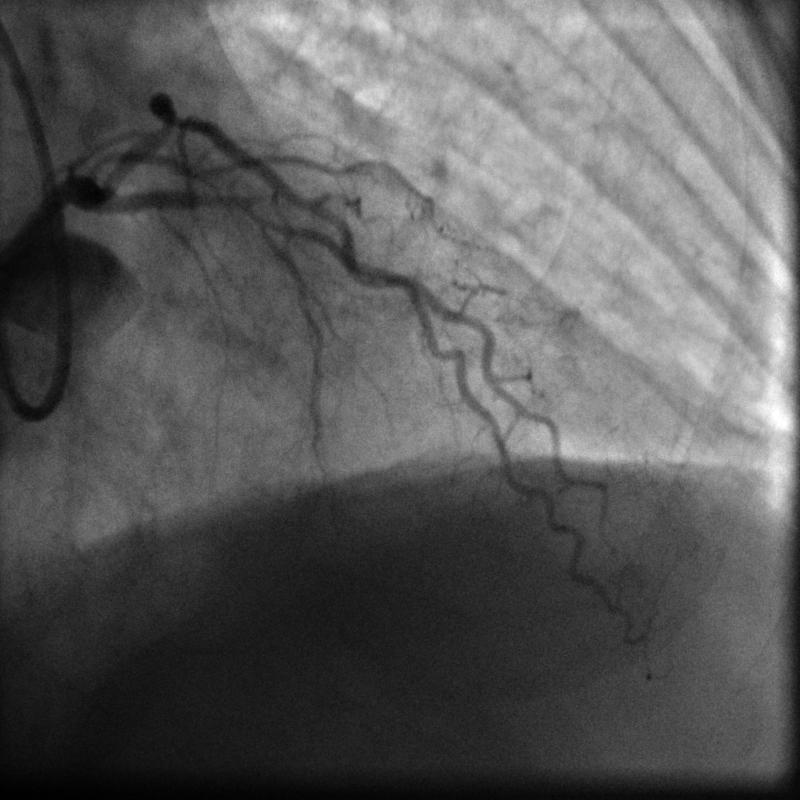Stenosis: (236, 190, 288, 245)
